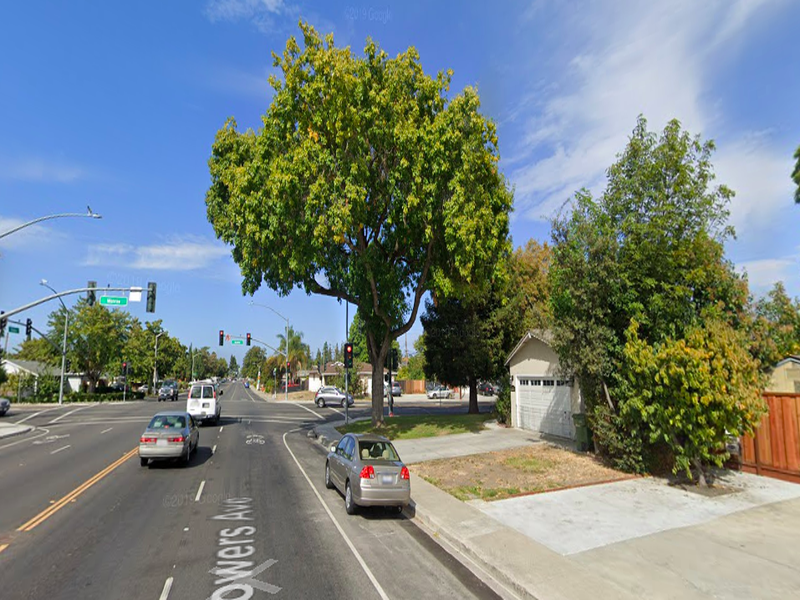tree: (205, 15, 516, 435), (545, 112, 797, 489)
